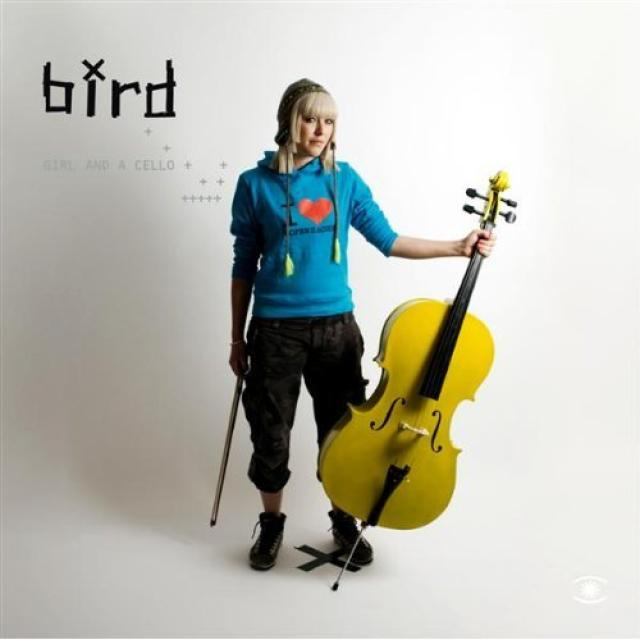cello: (316, 170, 522, 528)
